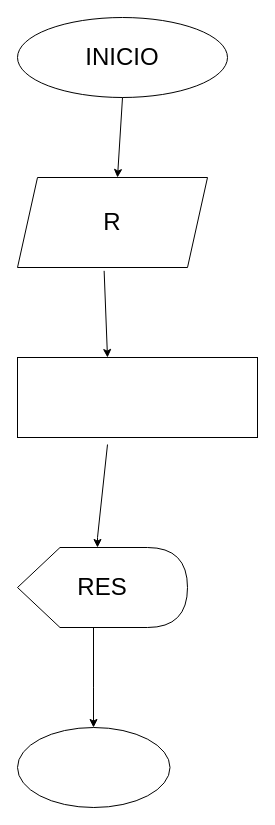
The diagram is 275 pixels wide and 825 high, and some of its shapes have lost their labels. Each missing label, with the box of its shape:
FIM: (16, 726, 170, 808)
RES = 3.14 * (R *R): (16, 356, 258, 438)
